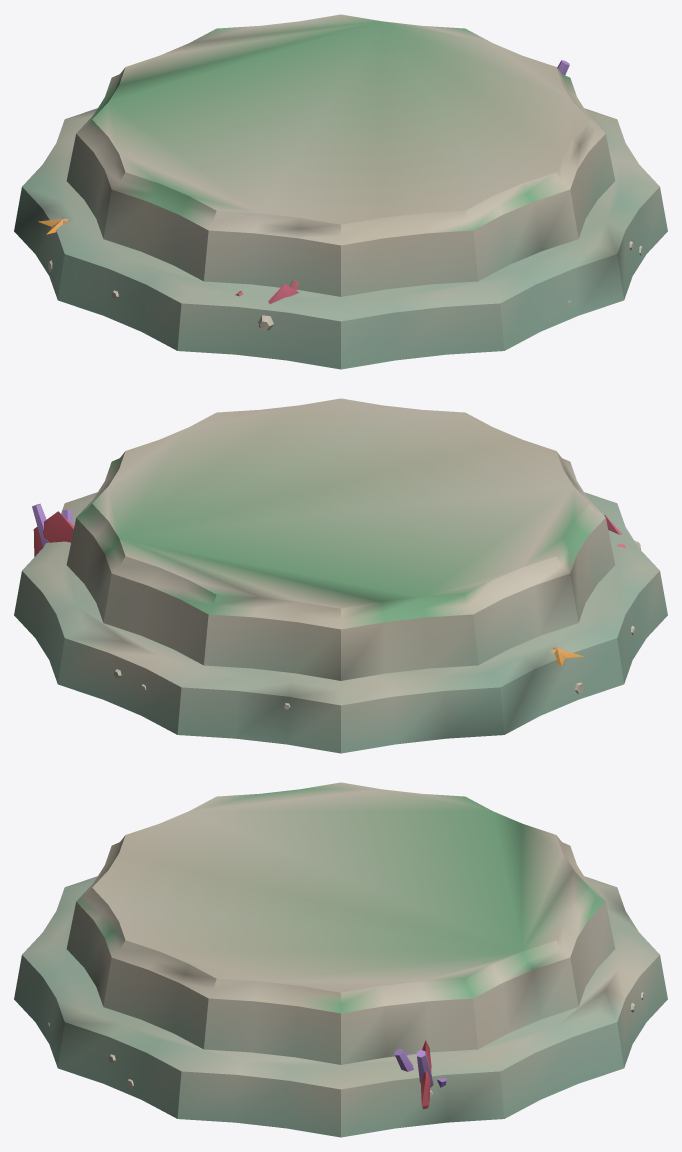
The model's file is reef_pedestal.glb.
The picture shows the model from 3 angles, top to bottom: view 1: azimuth 30°, elevation 25°; view 2: azimuth 150°, elevation 25°; view 3: azimuth 270°, elevation 25°; orthographic projection.
Visible parts, largest first — view 1: reef_pedestal; view 2: reef_pedestal; view 3: reef_pedestal.
Boxes of the visible parts, x1,y1,x2,y2 form: reef_pedestal: (14, 14, 667, 369); reef_pedestal: (14, 398, 667, 753); reef_pedestal: (14, 782, 667, 1137).
Bounding box in the file's own units: 4.24 × 0.8311 × 4.24.
